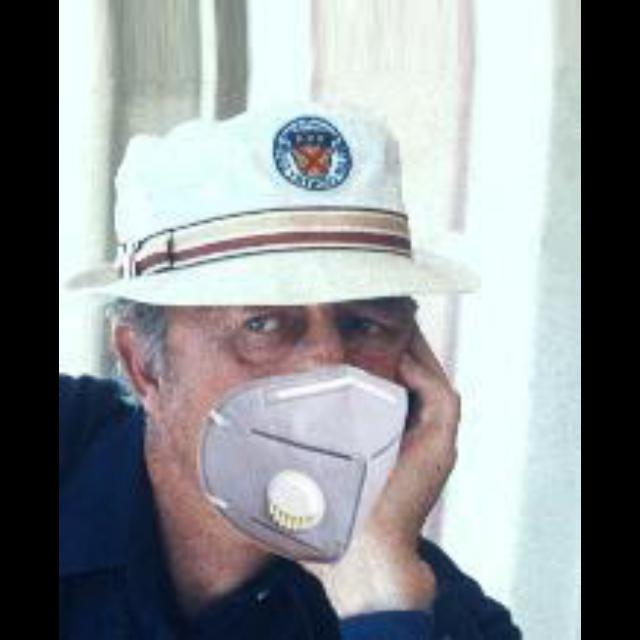suspicion: (113, 120, 450, 566)
